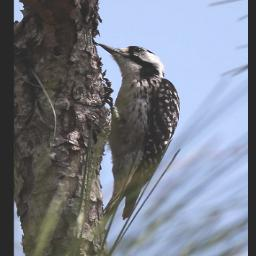Woodpecker: (88, 33, 188, 229)
